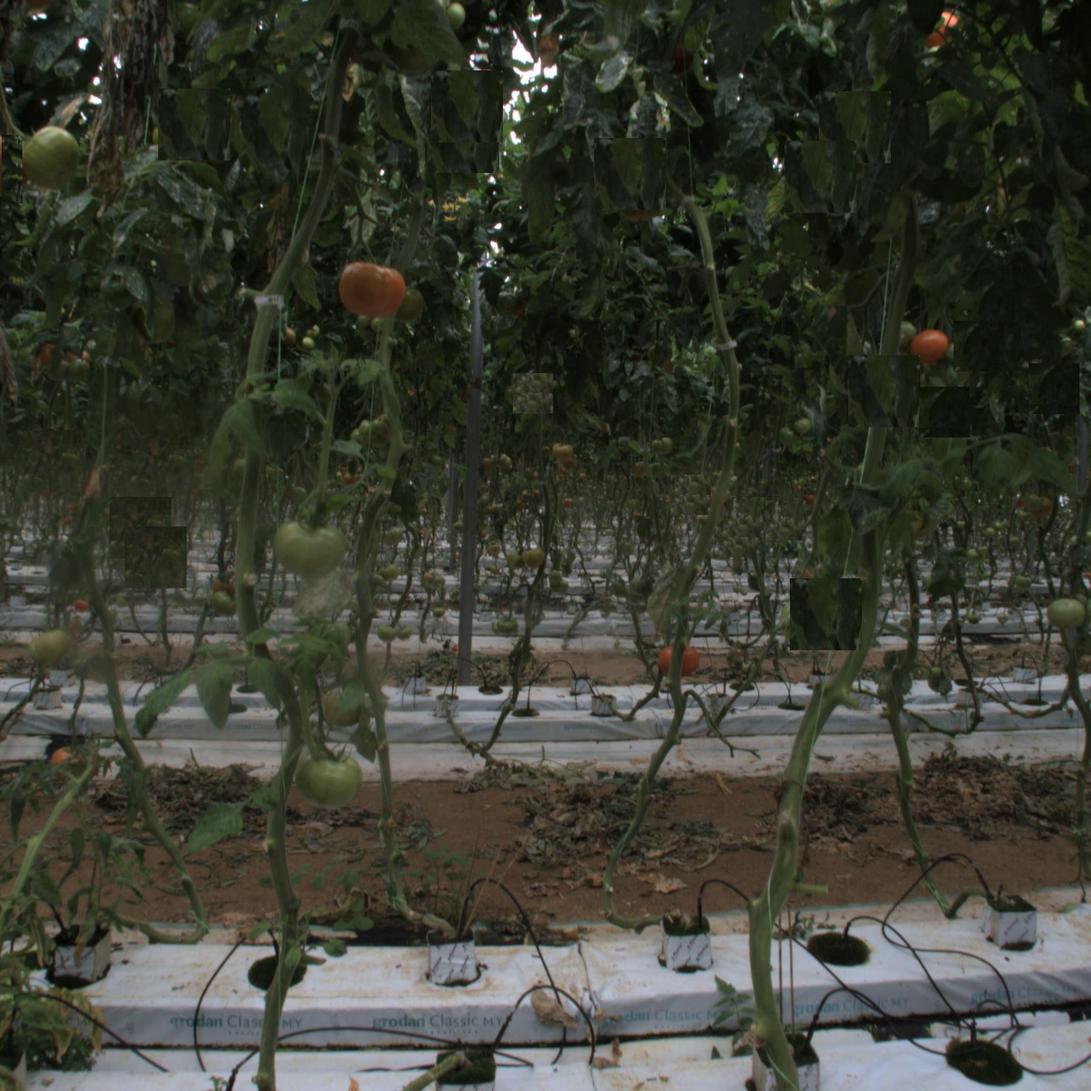fully-ripe: (342, 258, 399, 315), (908, 325, 951, 368), (658, 639, 701, 681)
unripe: (275, 512, 344, 580), (297, 744, 362, 810), (24, 129, 81, 185), (1046, 595, 1082, 631)
